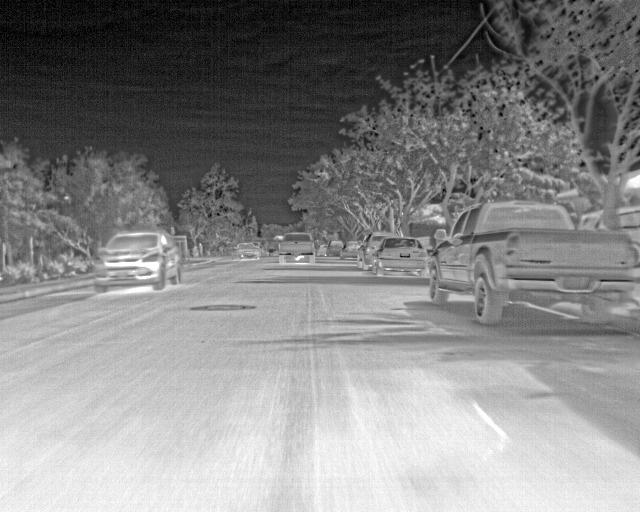car: (429, 198, 635, 326), (93, 229, 180, 293), (367, 236, 432, 280), (354, 230, 399, 266), (276, 232, 314, 266), (337, 240, 363, 261), (575, 209, 599, 230), (235, 242, 262, 260), (620, 205, 638, 231), (317, 242, 332, 257)
